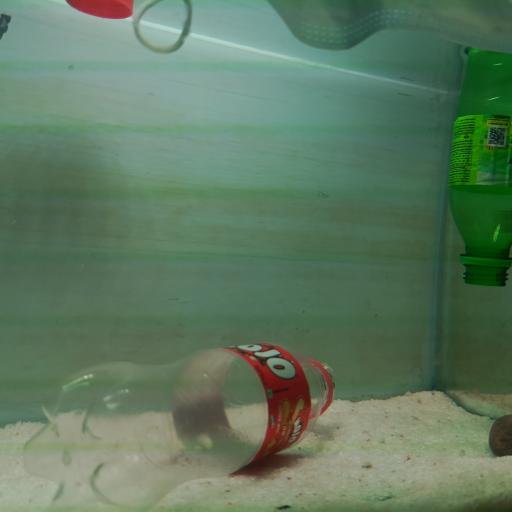bottle_cap: (64, 0, 134, 23)
mask: (132, 0, 512, 54)
plastic_bottle: (19, 339, 339, 511), (449, 45, 512, 288)
